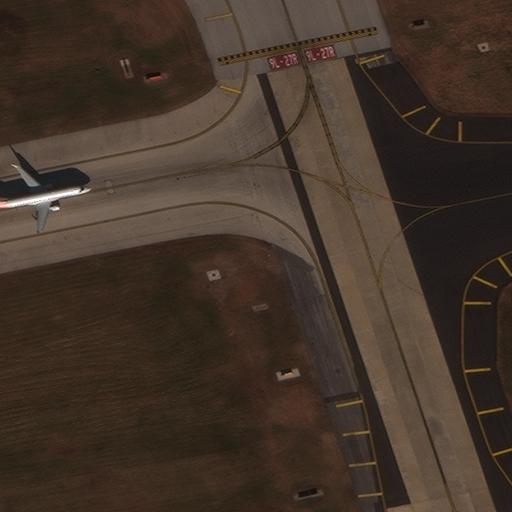Medium Civil Transport: (0, 164, 91, 232)
